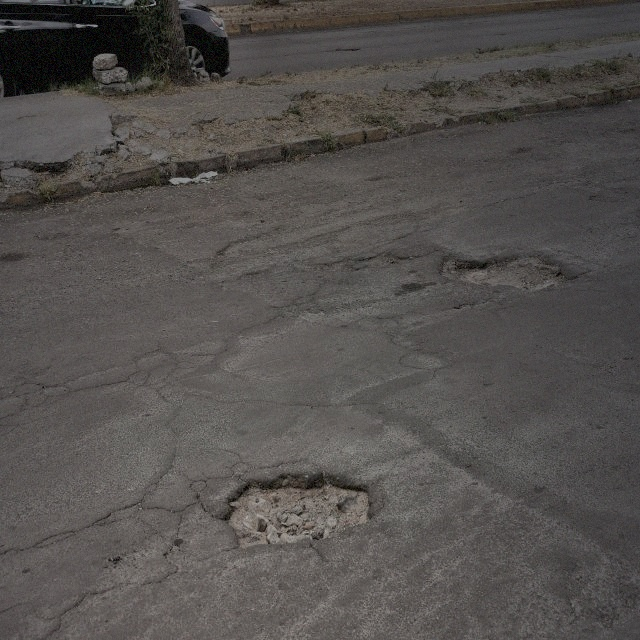pothole: (222, 470, 374, 550), (439, 246, 568, 299), (214, 235, 278, 254)
